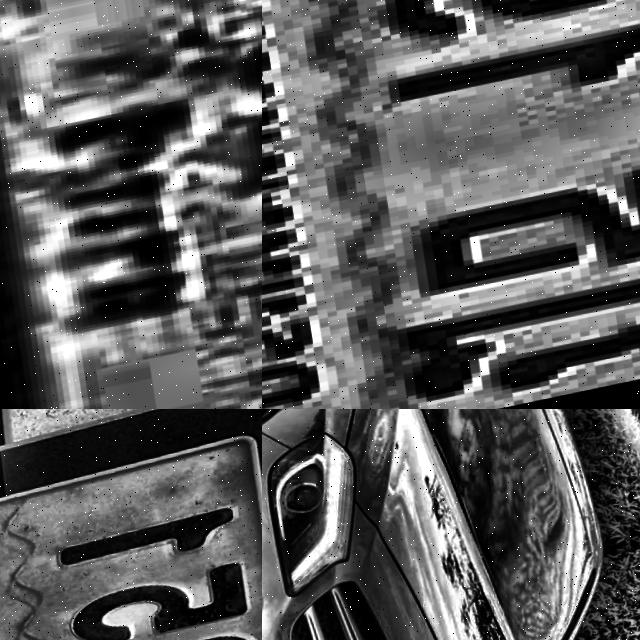license-plate: (262, 0, 640, 409), (0, 0, 262, 409), (0, 409, 262, 640)
